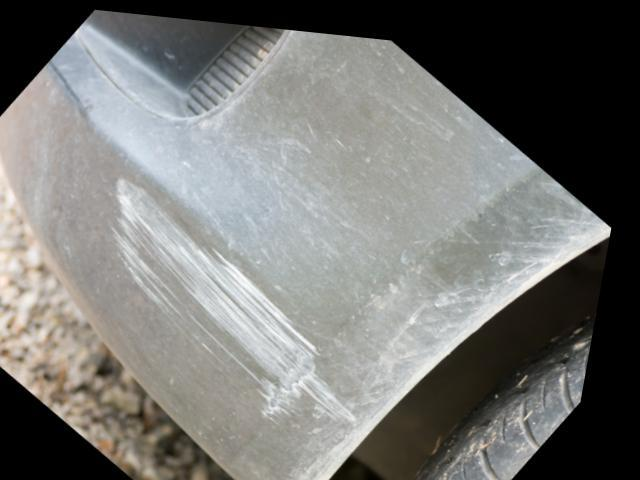scratch: (116, 172, 376, 426)
